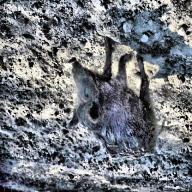boar: (61, 36, 157, 167)
